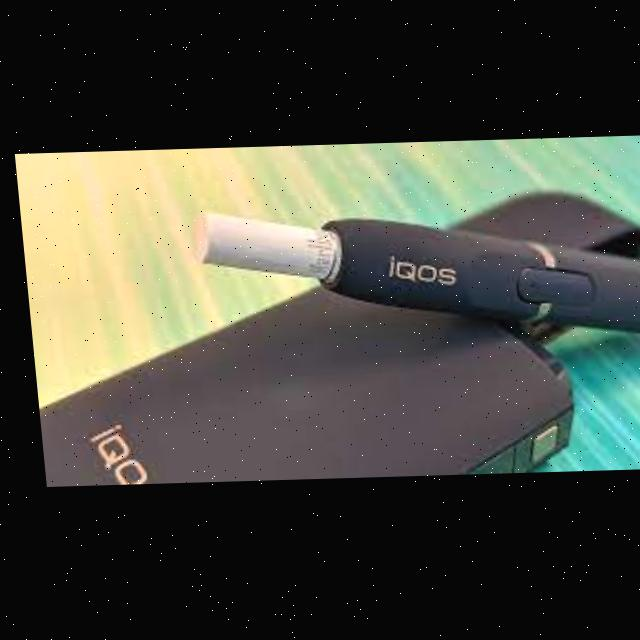vape: (16, 191, 640, 486), (186, 202, 640, 351)
